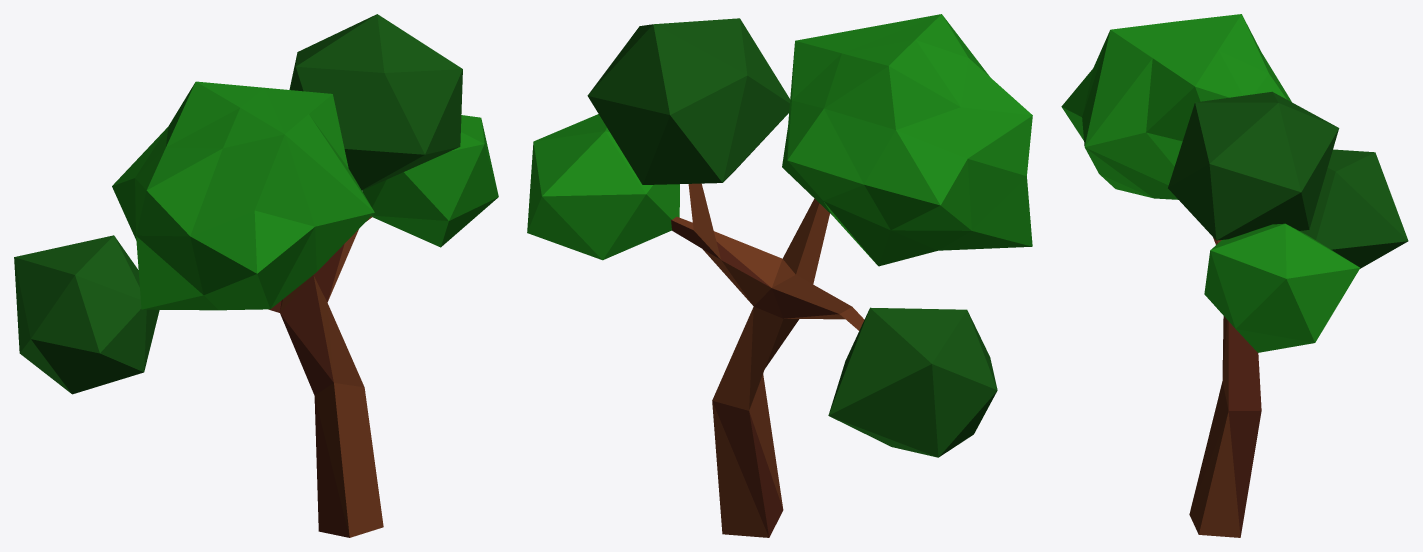
File: tree.fbx
The picture shows the model from 3 angles, left to right: view 1: azimuth 30°, elevation 25°; view 2: azimuth 150°, elevation 25°; view 3: azimuth 270°, elevation 25°; orthographic projection. The views are drawn at different scales.
Visible parts, largest first — view 1: Tree; view 2: Tree; view 3: Tree.
Boxes of the visible parts, x1=… form: Tree: x1=14, y1=14, x2=498, y2=537; Tree: x1=527, y1=14, x2=1032, y2=537; Tree: x1=1061, y1=14, x2=1408, y2=537.
Size of the model in its own units: 256 by 267 by 184.
